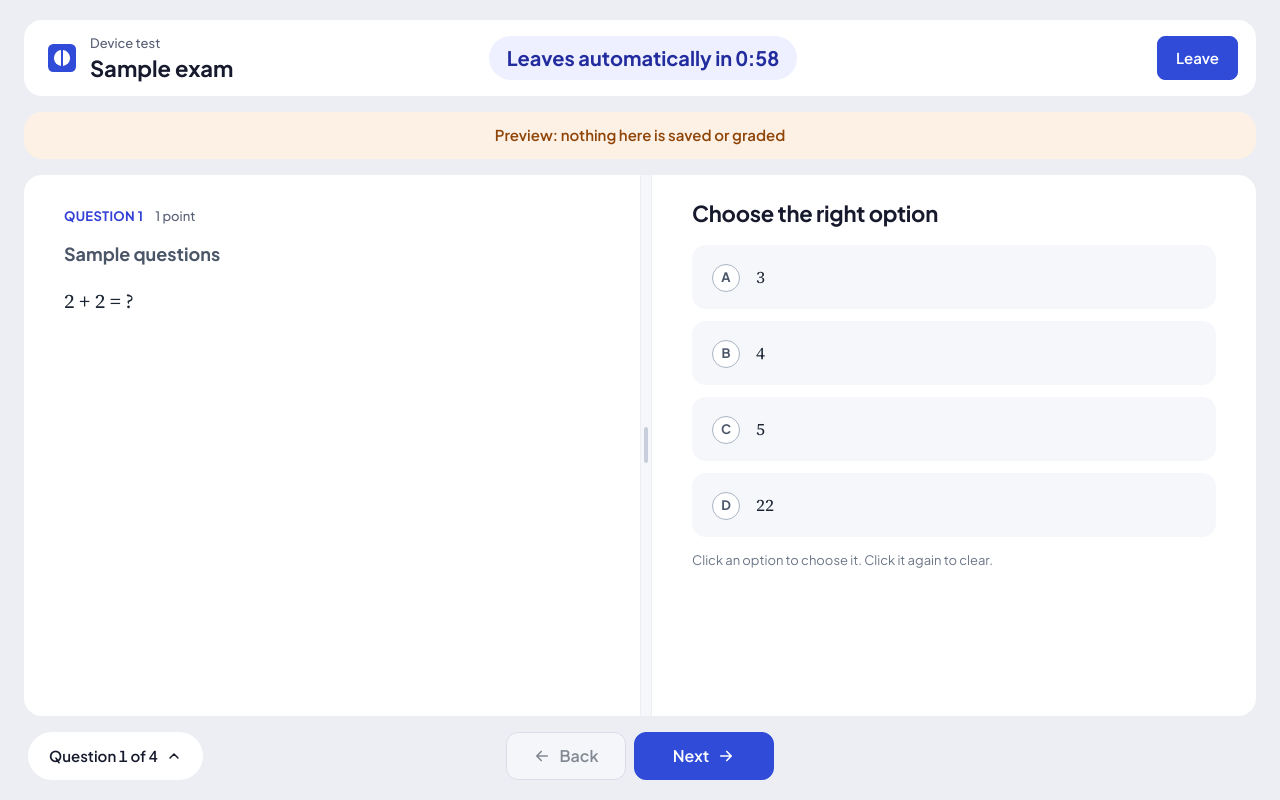
Test case: device test page › renders four sample questions and the banner with the app's remaining time
Check: the text "Preview: nothing here is saved or graded" is shown, box [24,112,1256,158]
Check: the text "Sample questions" is shown, box [64,242,220,265]
Click the button "Question 1 of 4".
click(115, 756)  # box [28,732,203,780]
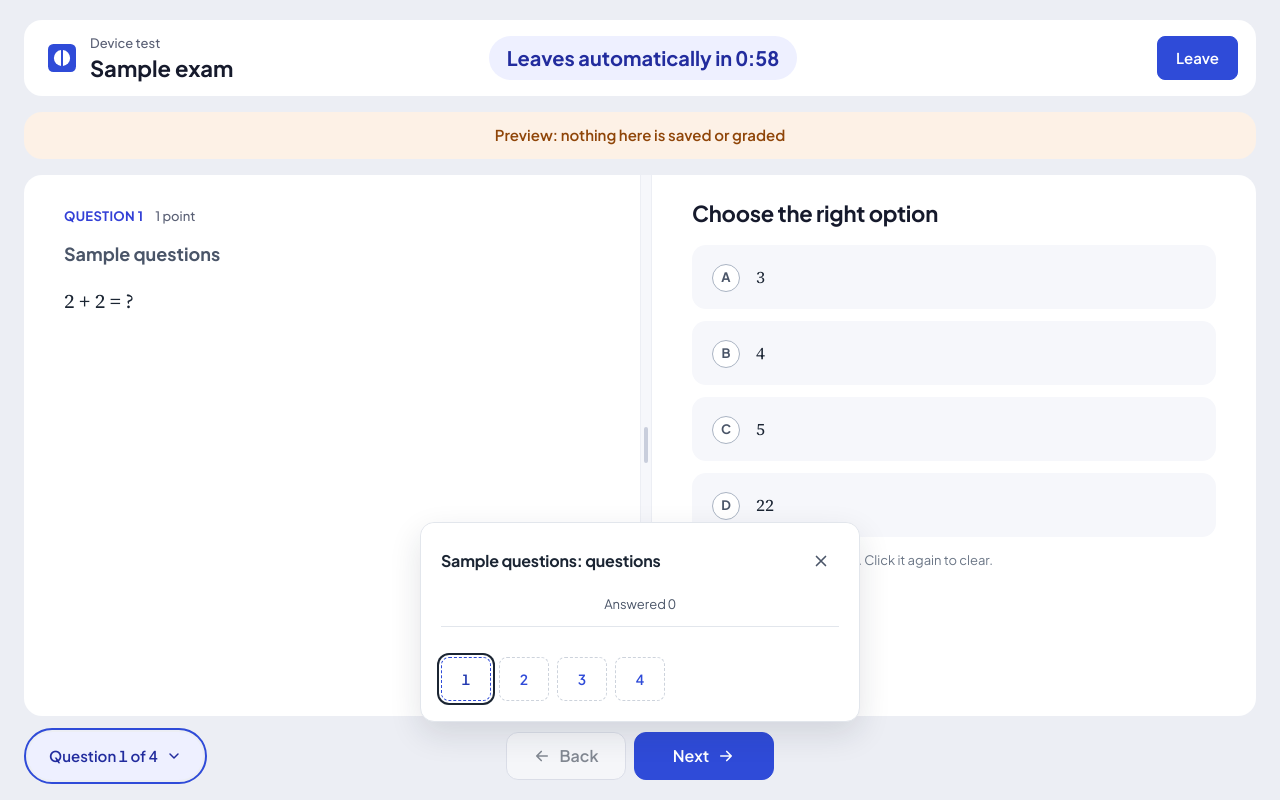
Check: the number of buttons "1" is 4, box [441,657,491,701]; [499,657,549,701]; [557,657,607,701]; [615,657,665,701]
Click the button "Next".
click(704, 756)  # box [634,732,774,780]
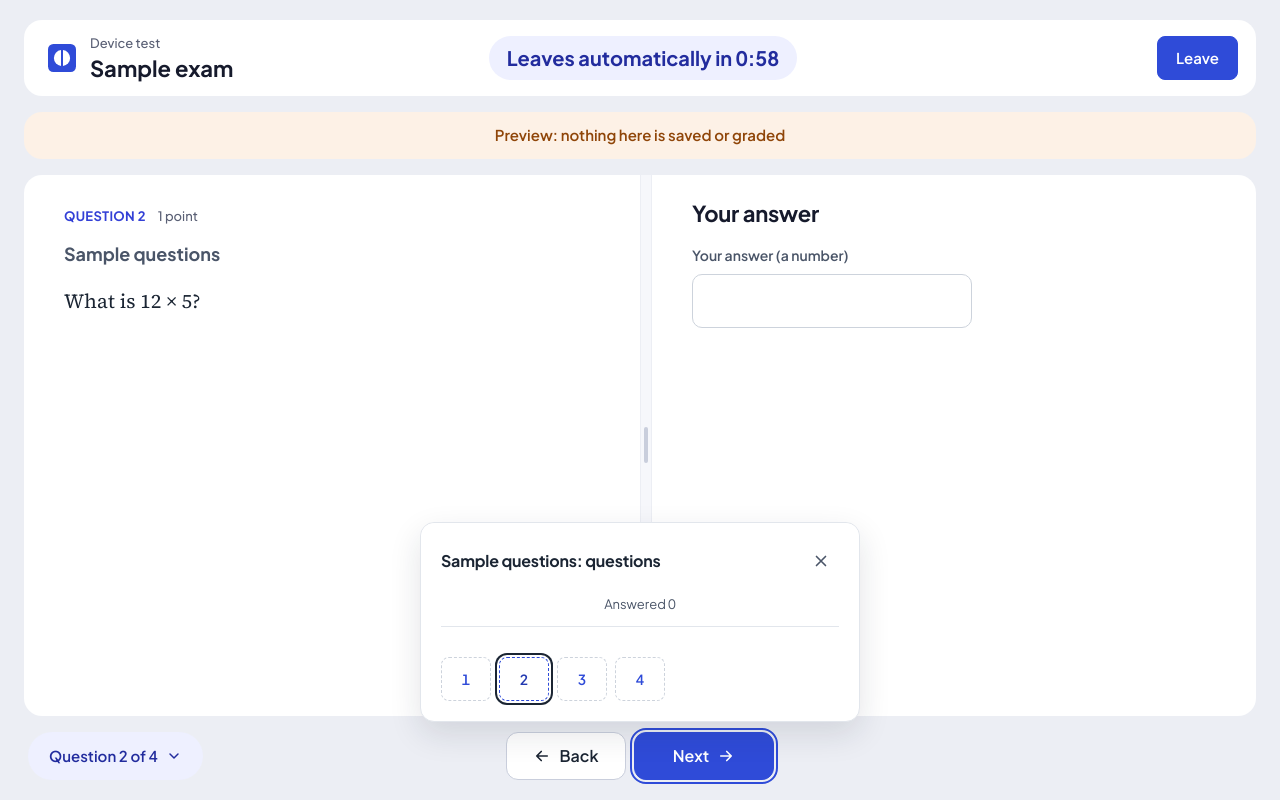
Click the button "Next".
click(704, 756)  # box [634,732,774,780]
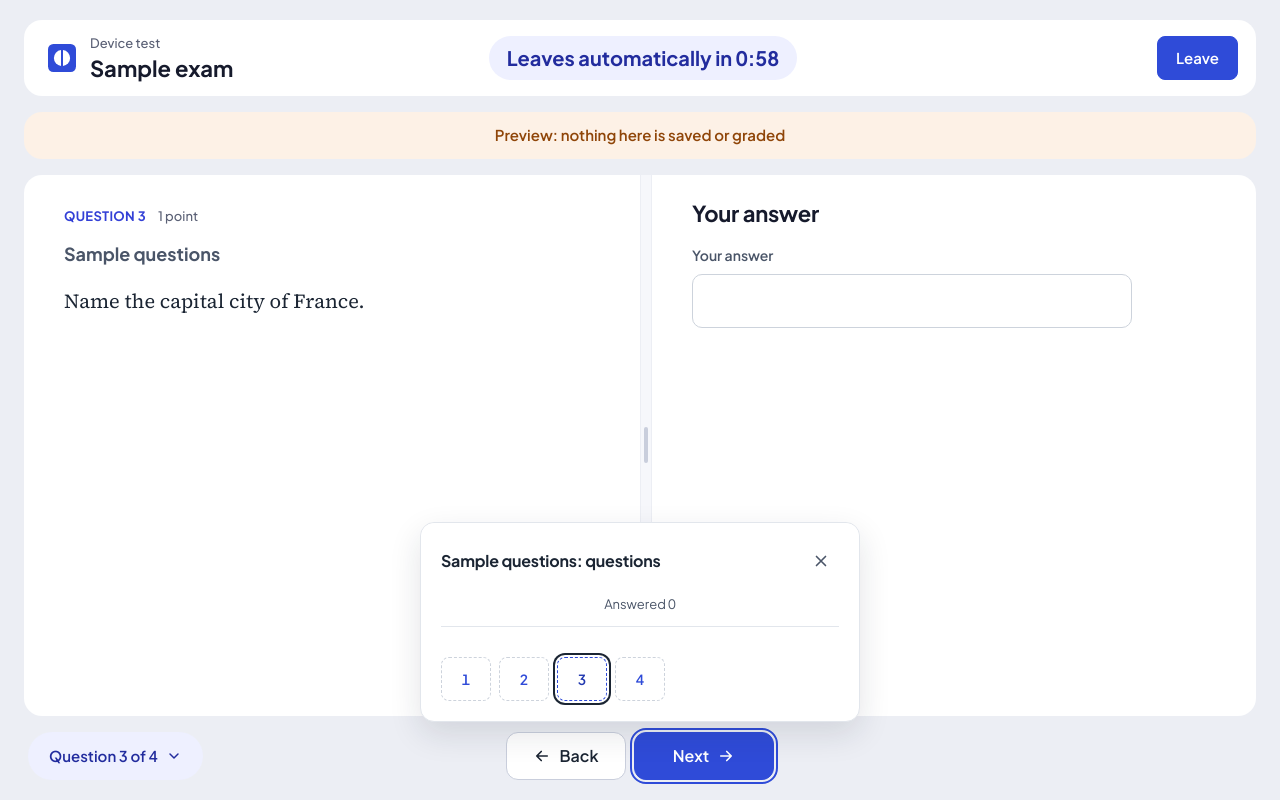
Click the button "Next".
click(704, 756)  # box [634,732,774,780]
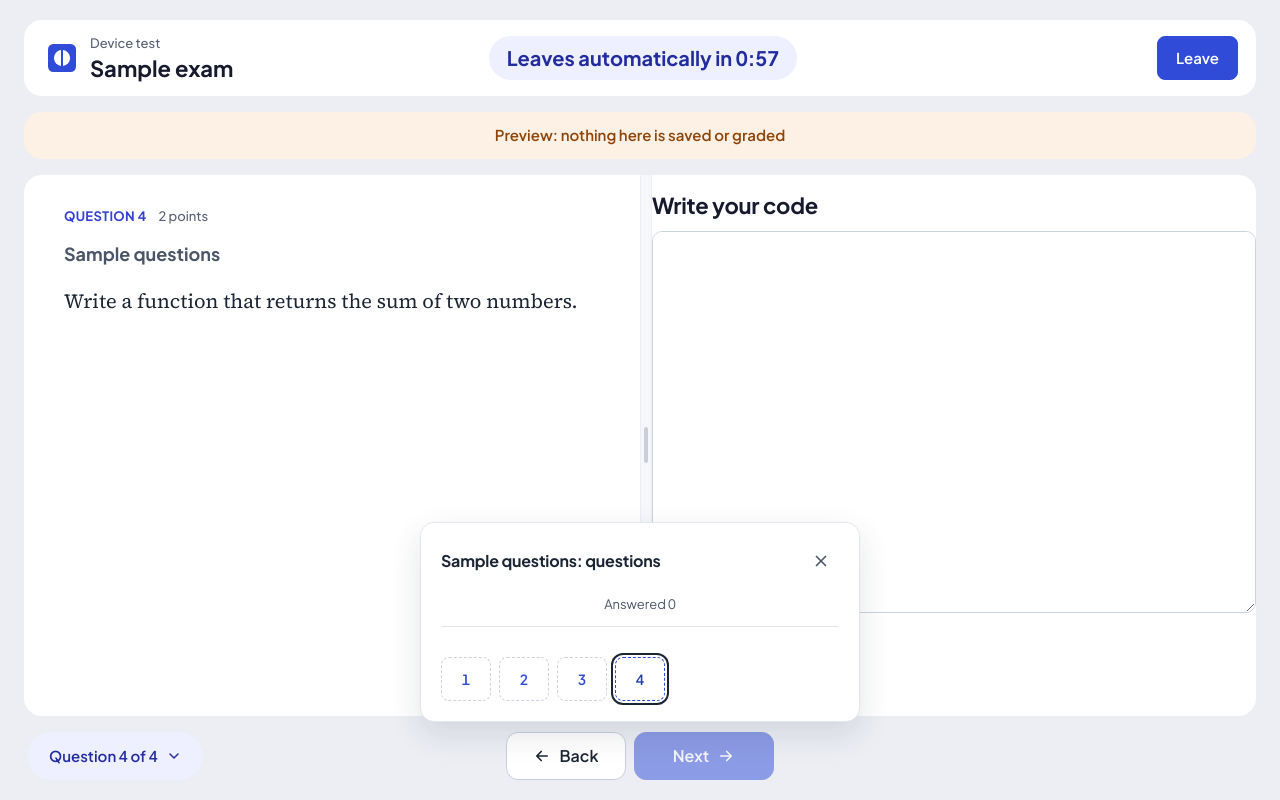
Check: the text box is shown, box [653,232,1255,612]
Check: the button "Next" is disabled, box [634,732,774,780]
